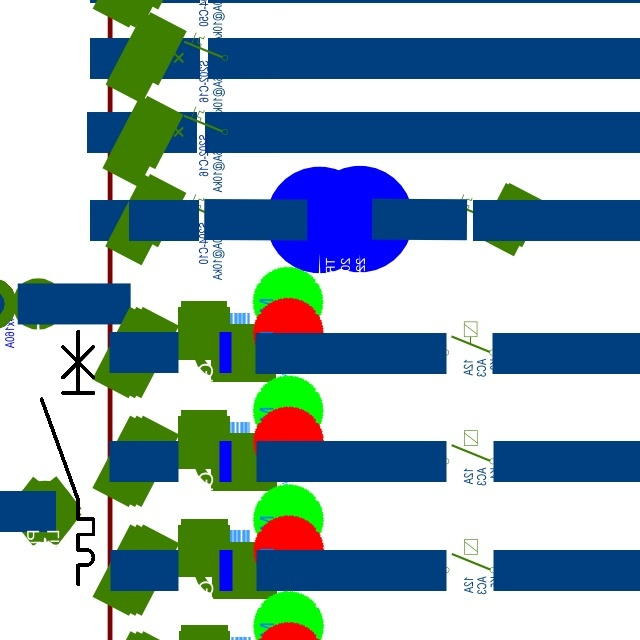interruptor_termomagnetico: (35, 325, 100, 591)
